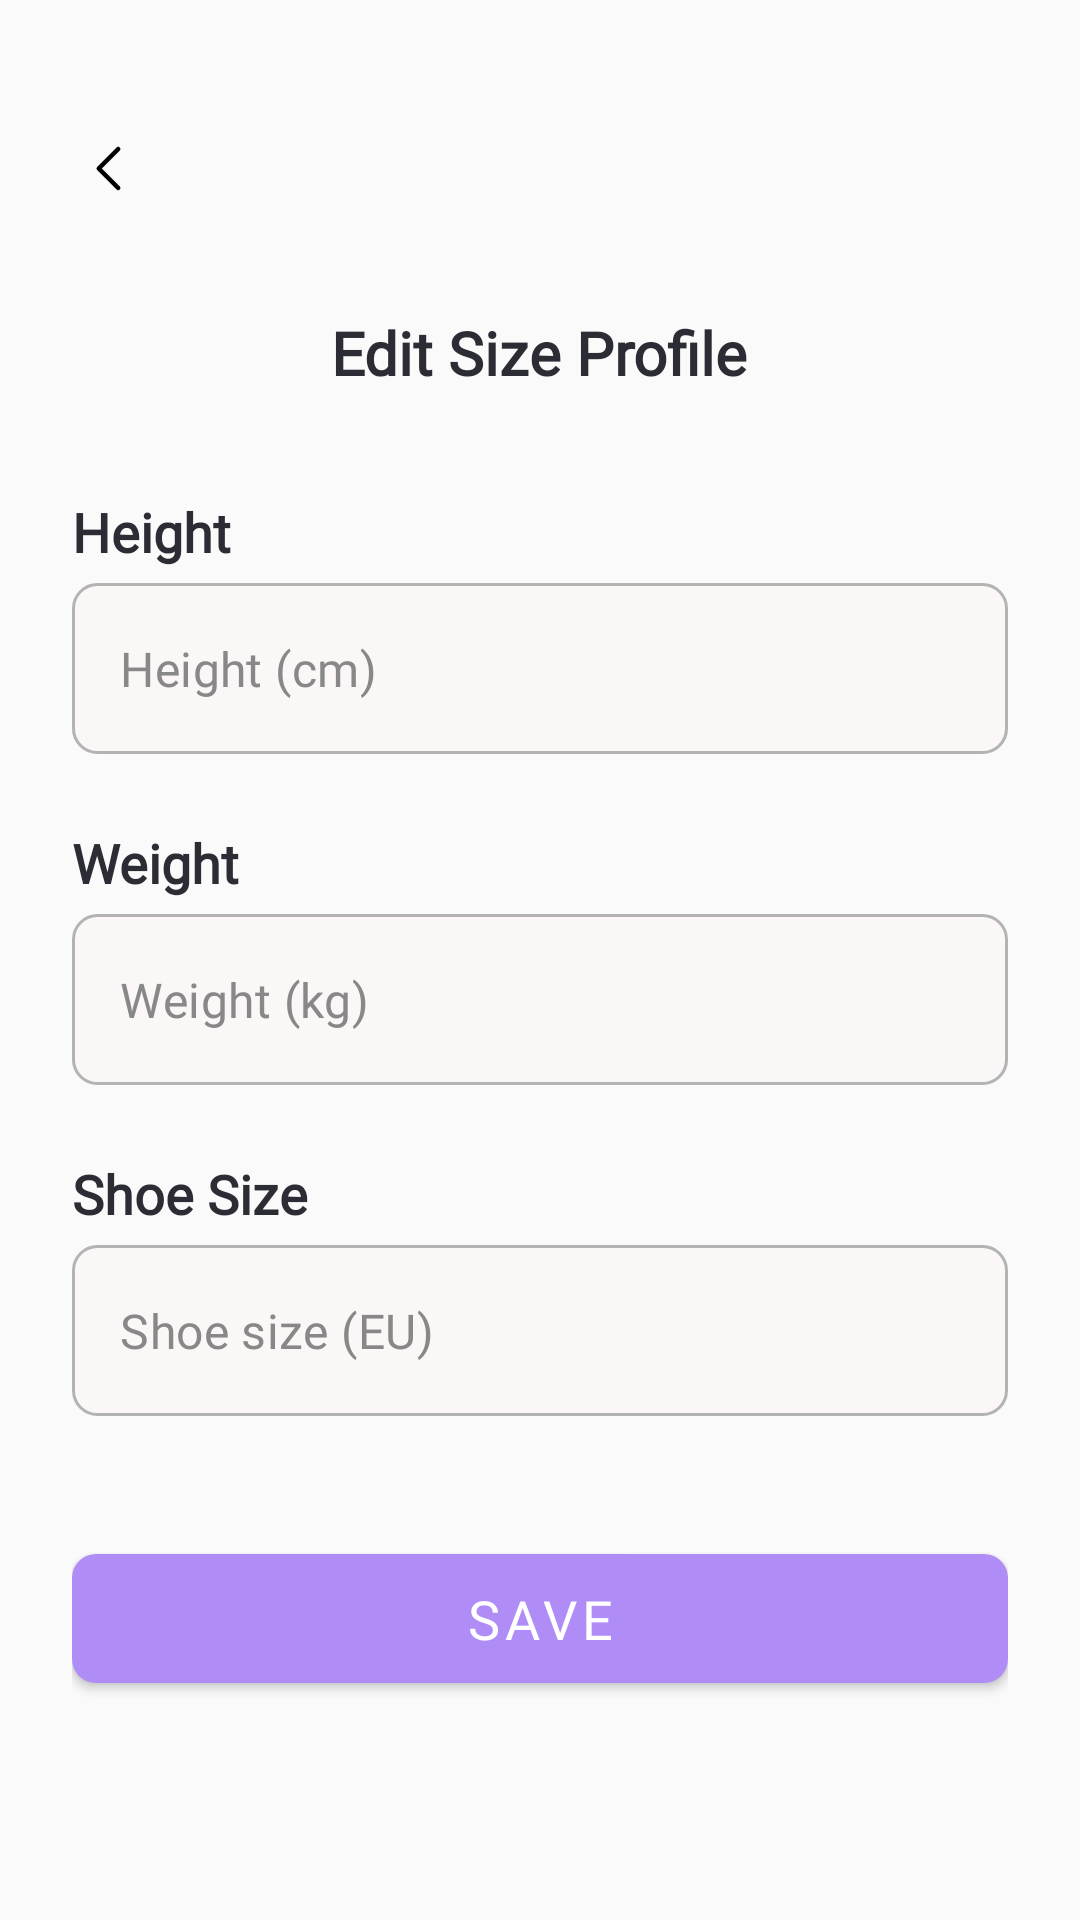

Icon click points for this 1080px×1920px phone screenshot, format (x=x, y=y):
Back: (x=108, y=168)
